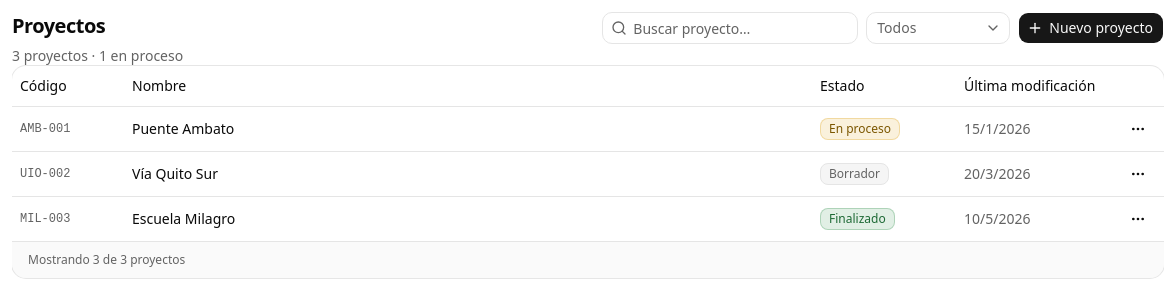
Scenario: ListaProyectosPage › buscar filtra la lista contra el servidor
This screenshot has width=1176, height=296.
Check: the link "Puente Ambato" is shown, box [132, 118, 234, 138]
Type "Ambato" into the field labelled "Buscar proyecto". click: {"x": 742, "y": 28}
box: [627, 12, 857, 44]
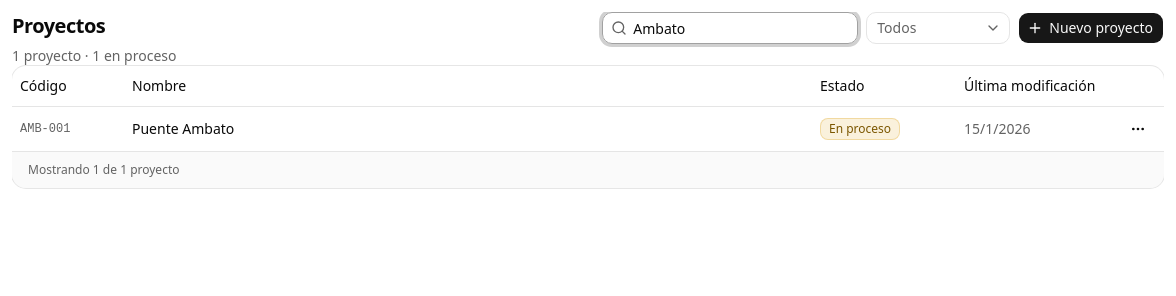
Check: the link "Puente Ambato" is shown, box [132, 118, 234, 138]
Check: the link "Vía Quito Sur" is gone
